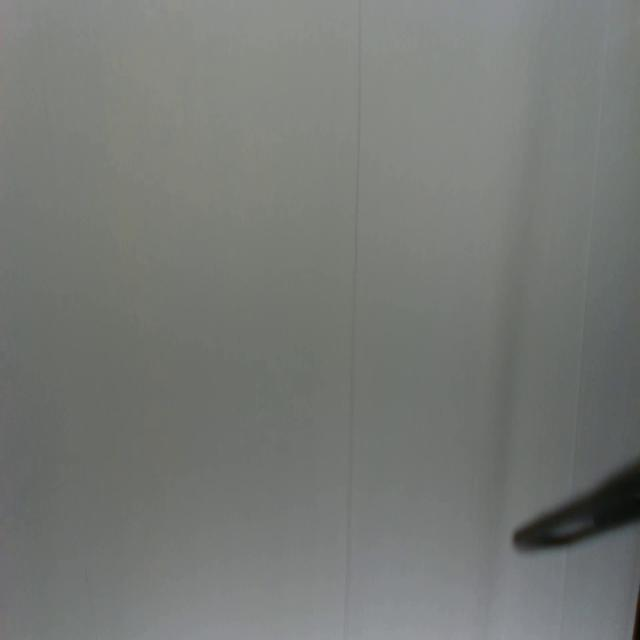crease: (570, 0, 614, 465), (342, 0, 366, 635)
